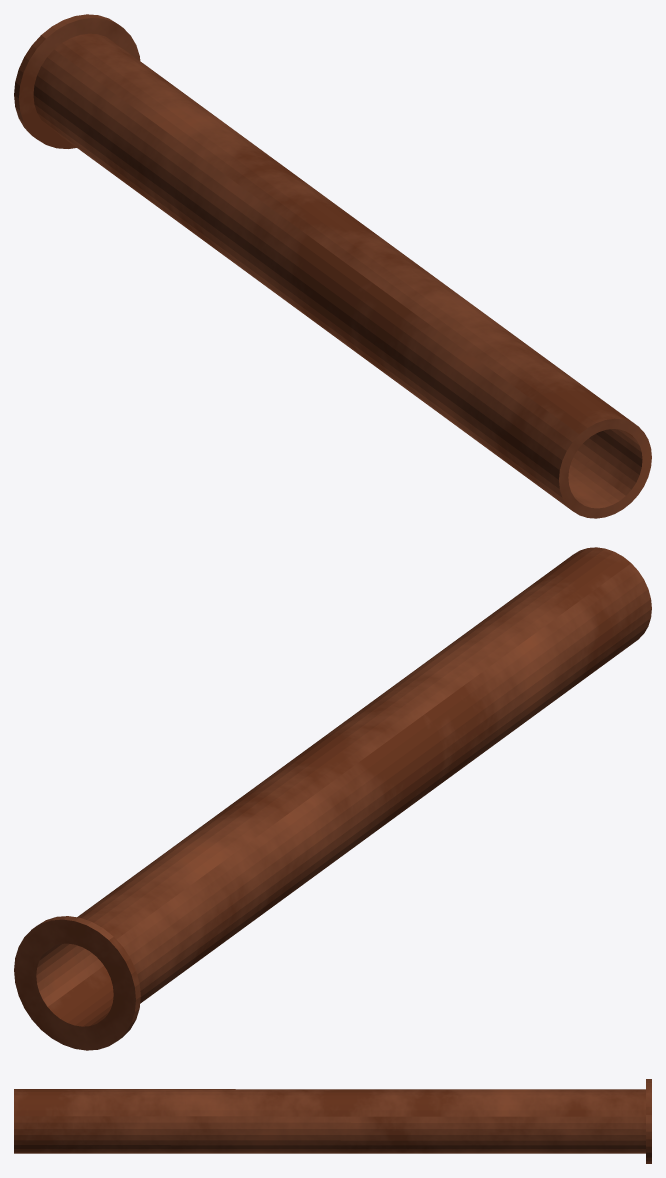
Rendered from One end straight long pipe.glb.
The picture shows the model from 3 angles, top to bottom: view 1: azimuth 30°, elevation 25°; view 2: azimuth 150°, elevation 25°; view 3: azimuth 270°, elevation 25°; orthographic projection. The views are drawn at different scales.
Parts seen in each view (by area): view 1: One end long straight pipe; view 2: One end long straight pipe; view 3: One end long straight pipe.
Boxes of the visible parts, x1,y1,x2,y2 form: One end long straight pipe: (14, 14, 651, 518); One end long straight pipe: (14, 547, 651, 1050); One end long straight pipe: (14, 1079, 651, 1163).
Size of the model in its own units: 0.5298 by 0.5298 by 3.99.
1 material, 1 textured.
